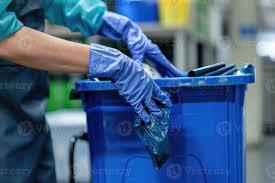Glove: (88, 44, 171, 122), (98, 11, 184, 76)
